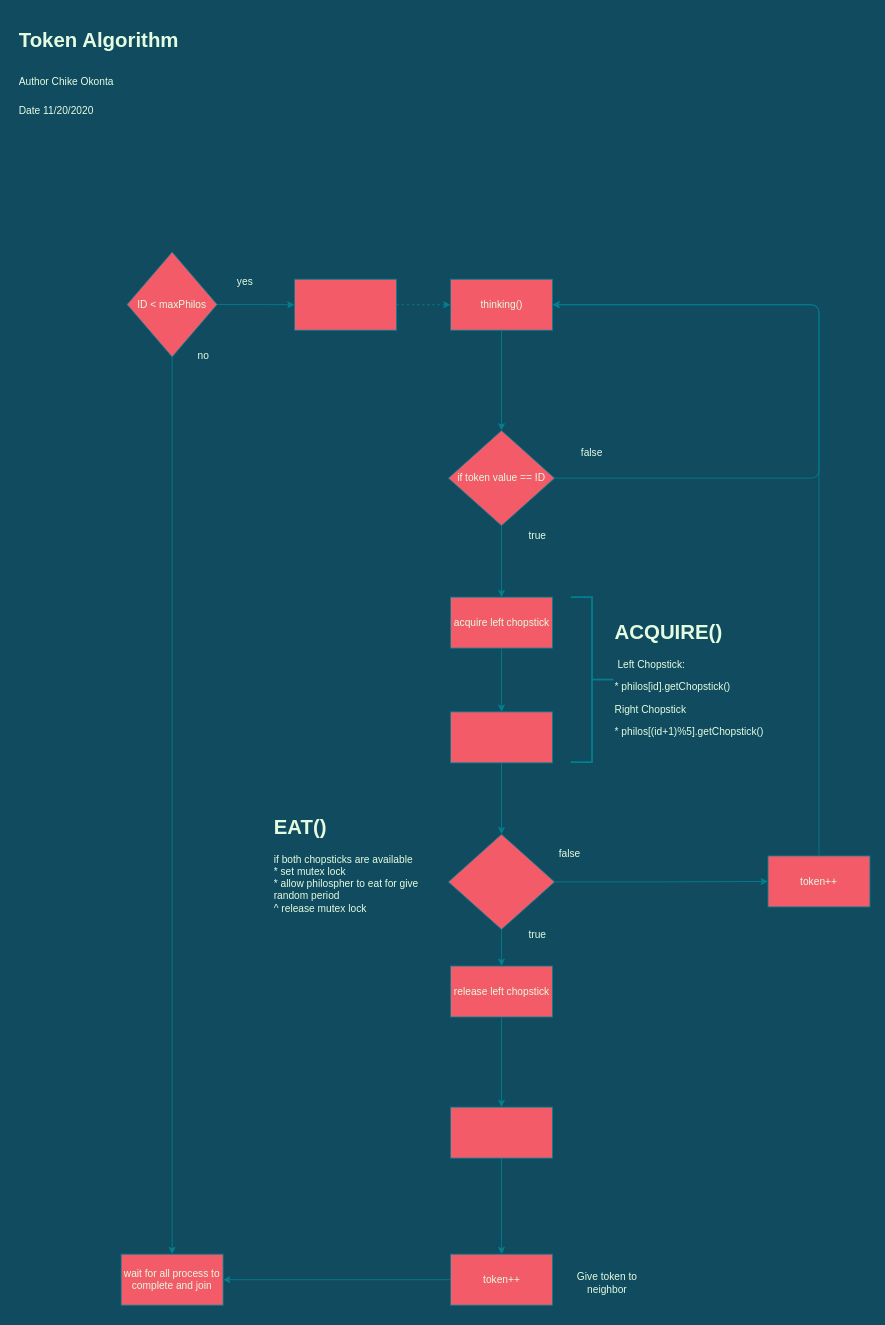
Image size: 885x1325. Some labels were removed from this diagram. Here are the shapes that lost their labels. From the top down, the box of each, then its label:
(294, 278, 397, 330): Create thread and launch threads
(450, 711, 552, 763): acquire right chopstick
(448, 833, 555, 929): eat()
(450, 1106, 552, 1158): release right chopstick
